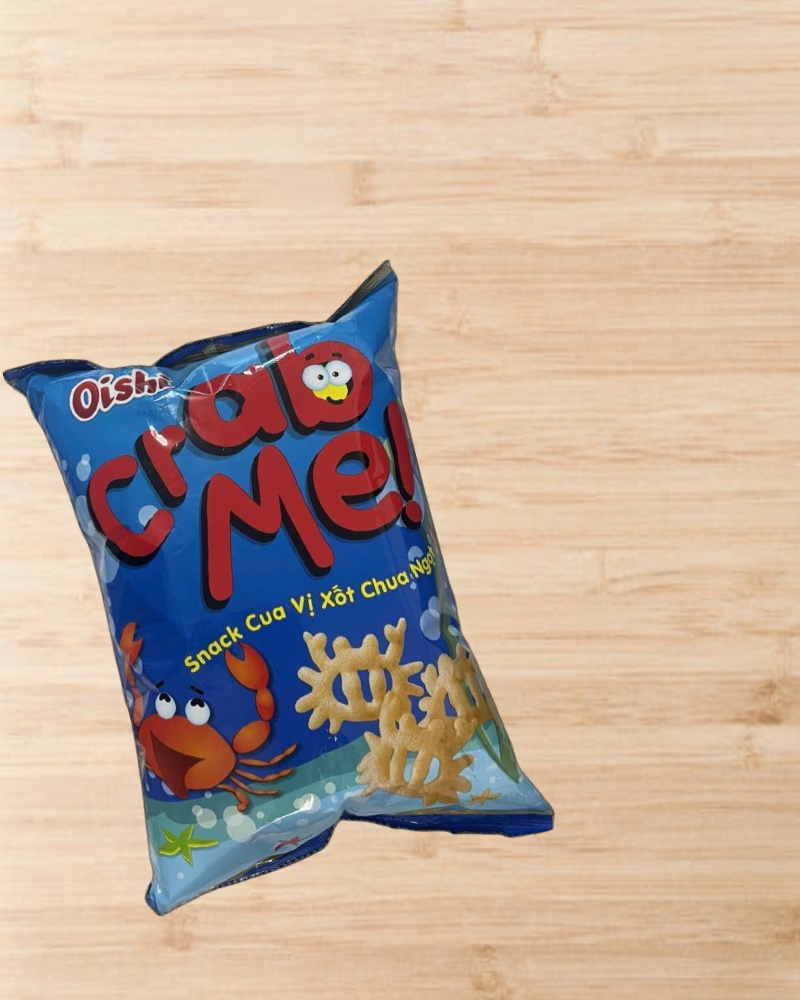Snack chay: (1, 256, 559, 938)
